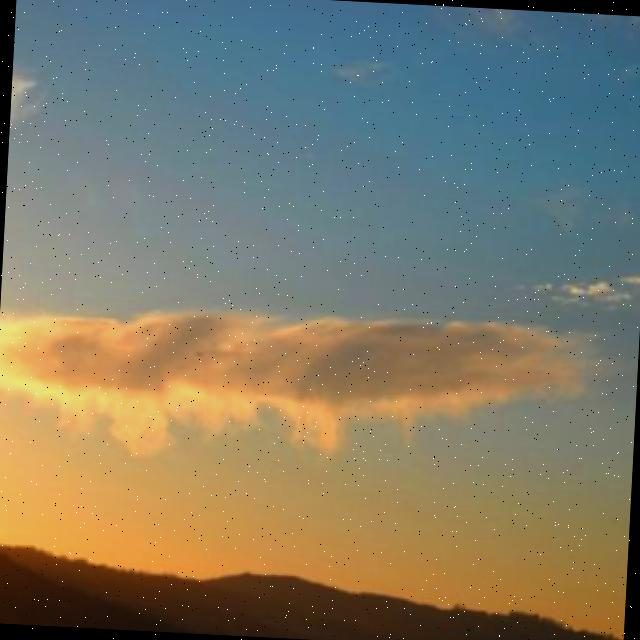Ac: (1, 264, 640, 490)
